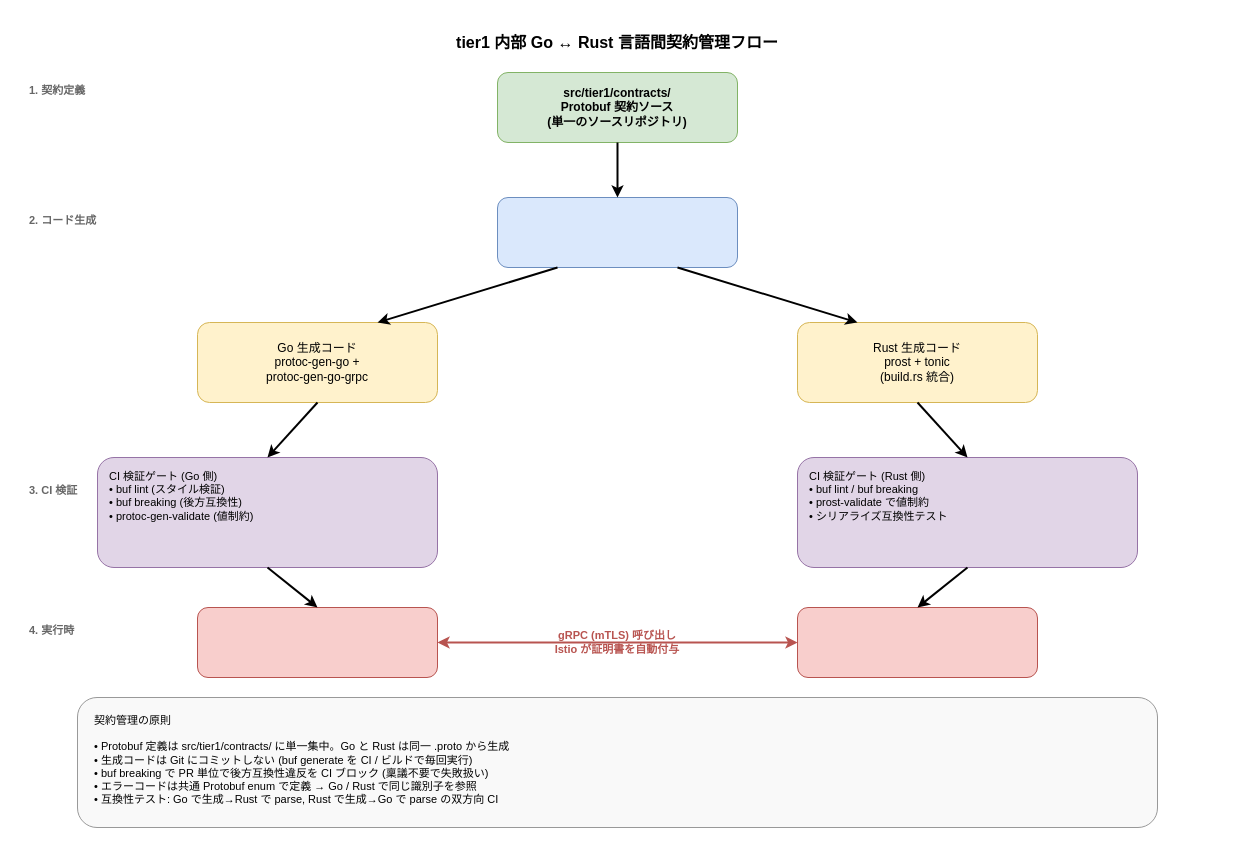
Some shapes in this 1234 by 864 pixel diagram are drawn without their labels. Here are the shapes that lost their labels. From the top down, the centre of each, then its label:
the point at 617,232: buf generate (Go + Rust 両方のコード生成)
the point at 317,642: tier1 Go サービス (Dapr ファサード)
the point at 917,642: tier1 Rust サービス (ZEN / Audit / PII 等)
